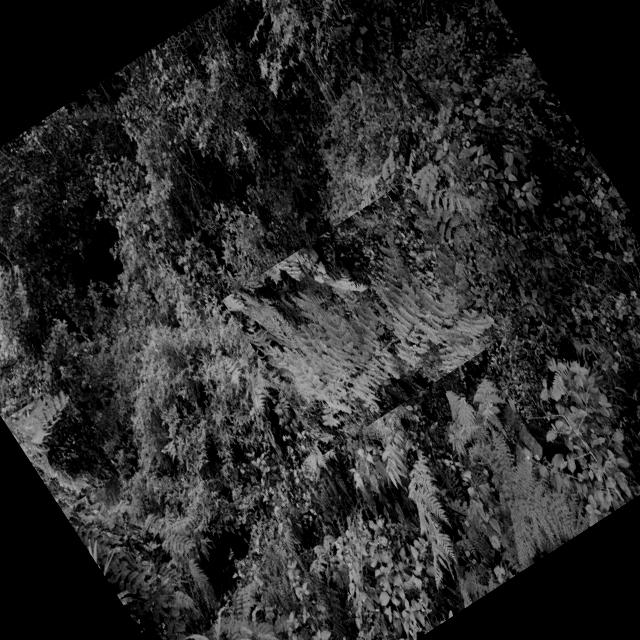Mysore-Thorn-Weed: (222, 180, 506, 454), (346, 124, 528, 325), (81, 509, 222, 640), (3, 382, 119, 510)
